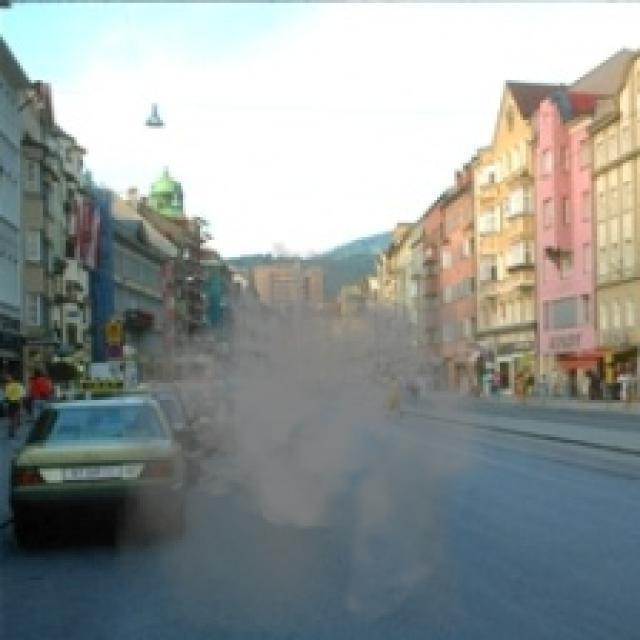Smoke: (114, 239, 500, 632)
